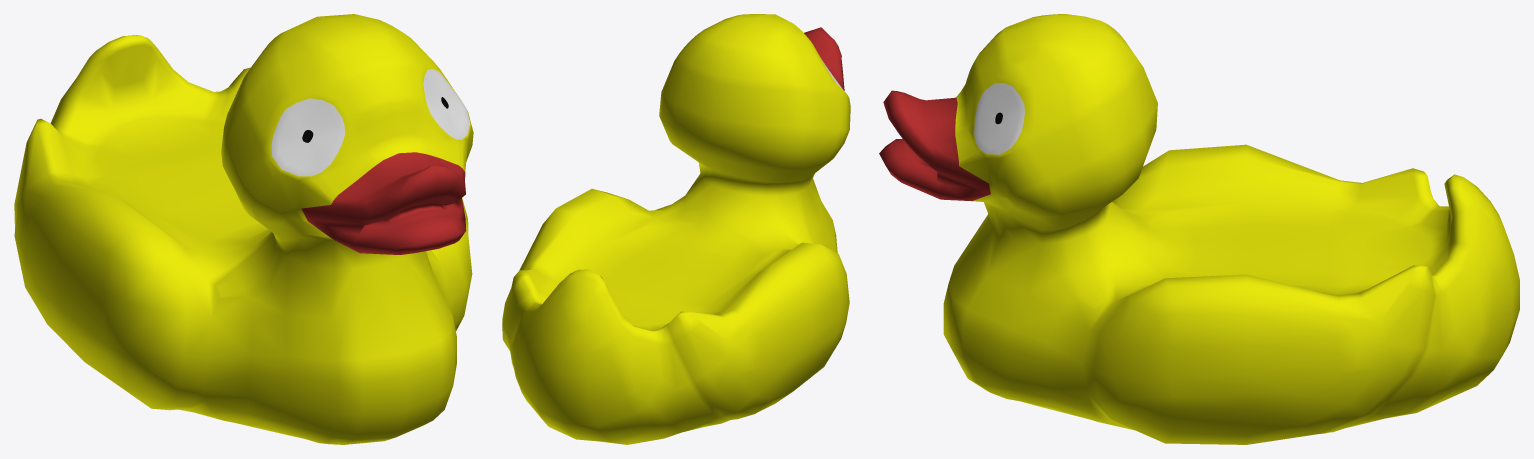
Rendered from duck.fbx.
The picture shows the model from 3 angles, left to right: view 1: azimuth 30°, elevation 25°; view 2: azimuth 150°, elevation 25°; view 3: azimuth 270°, elevation 25°; orthographic projection. The views are drawn at different scales.
Parts seen in each view (by area): view 1: Duck:duck2; view 2: Duck:duck2; view 3: Duck:duck2.
Boxes of the visible parts, <box> form: Duck:duck2: <box>14,14,473,444</box>; Duck:duck2: <box>502,14,850,444</box>; Duck:duck2: <box>879,14,1519,444</box>.
Bounding box in the file's own units: 2.38 × 2.56 × 3.97.
